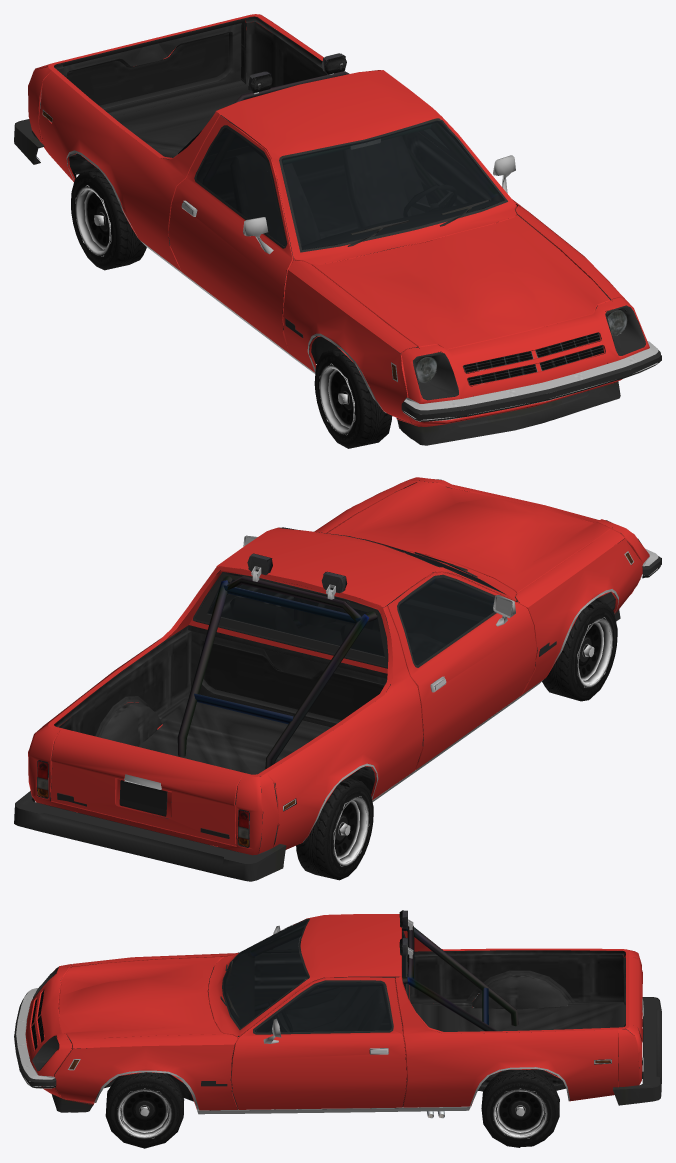
The model's file is pickup.glb.
3 views of the same model, one above another, from view 1: azimuth 30°, elevation 25°; view 2: azimuth 150°, elevation 25°; view 3: azimuth 270°, elevation 25° (orthographic). The views are drawn at different scales.
Parts seen in each view (by area): view 1: pickup; view 2: pickup; view 3: pickup.
Boxes of the visible parts, x1,y1,x2,y2 form: pickup: (14,14,661,448); pickup: (14,477,661,881); pickup: (14,910,661,1148).
Bounding box in the file's own units: 1.74 × 1.39 × 4.7.
6 materials, 5 textured.
